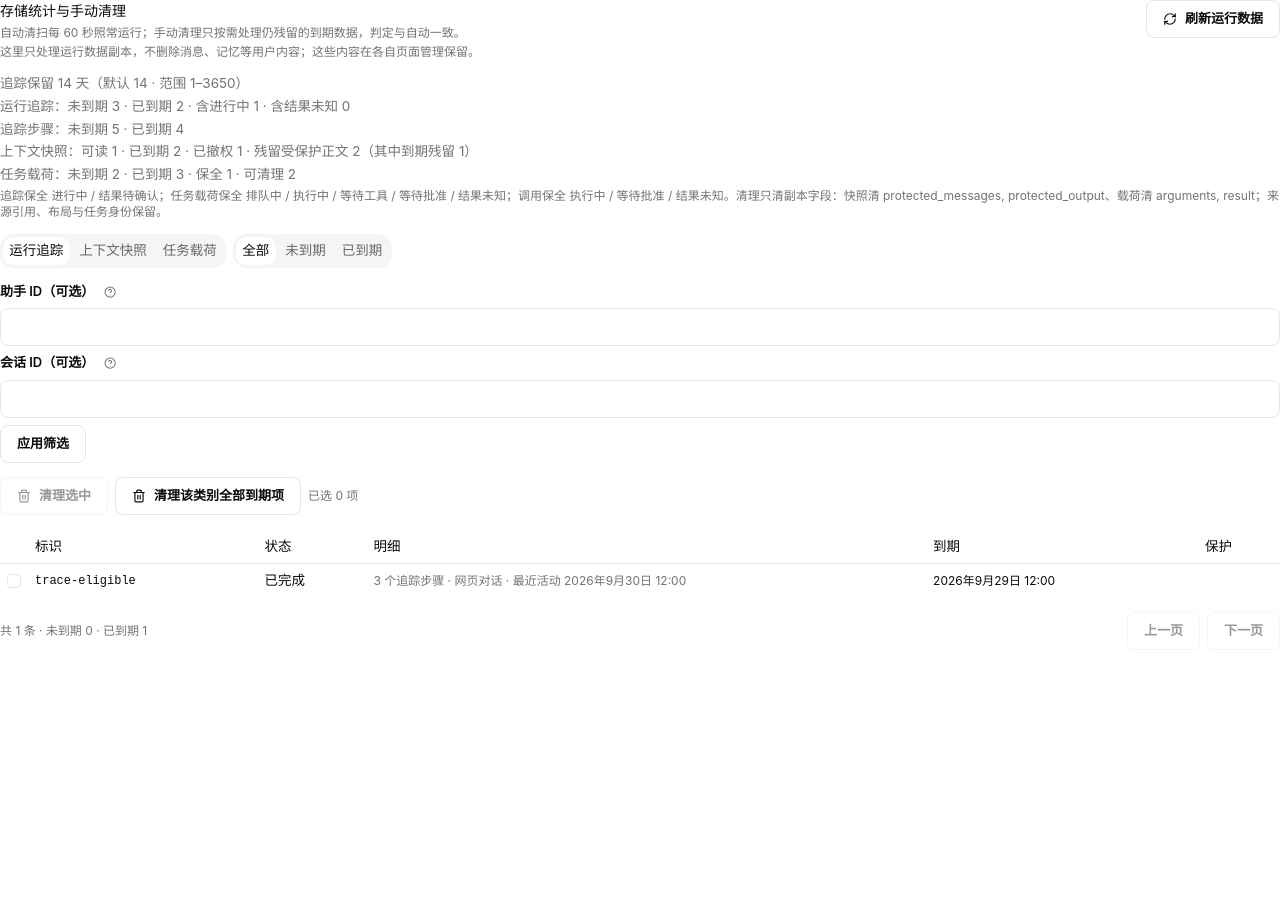
it: delayed cleanup confirmation opener › cleanSelected returns to the exact action button after delayed preview and cancel
Click the checkbox named "选择 trace-eligible" at (14, 581), box [7, 574, 21, 588]
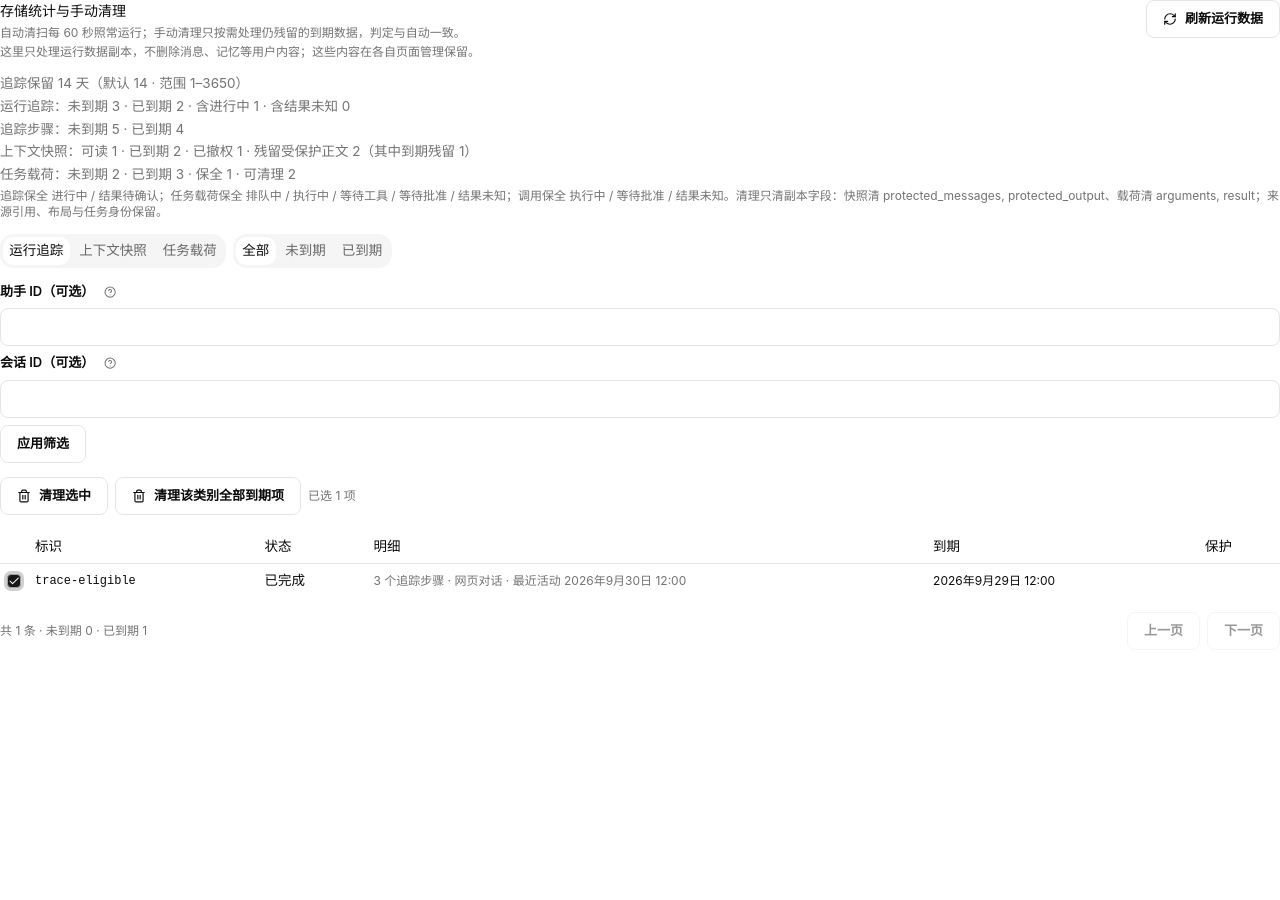
Click the button "清理选中" at (54, 496), box [0, 477, 108, 515]
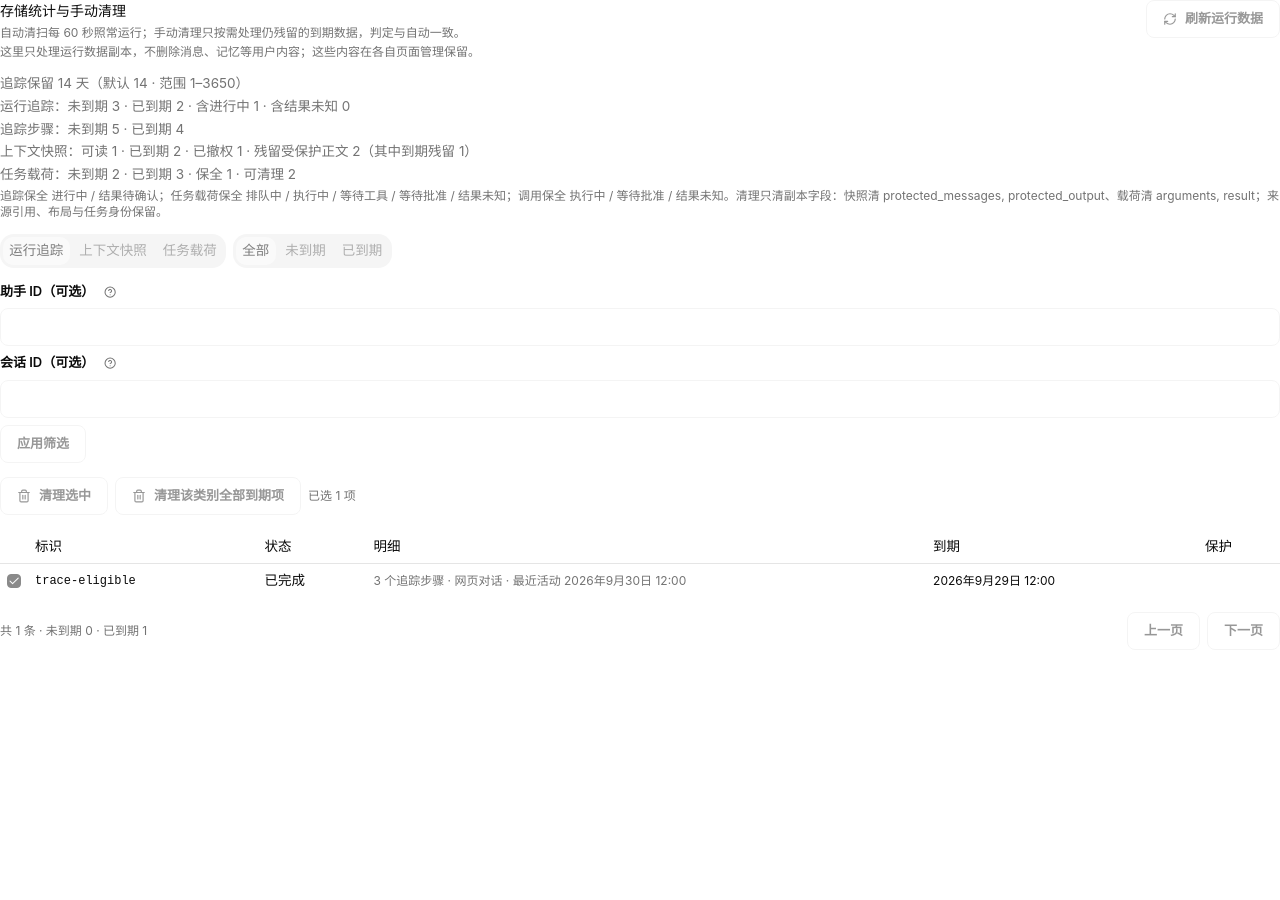
Now the button "清理选中" is disabled
Click the button "清理选中" at (54, 496), box [0, 477, 108, 515]
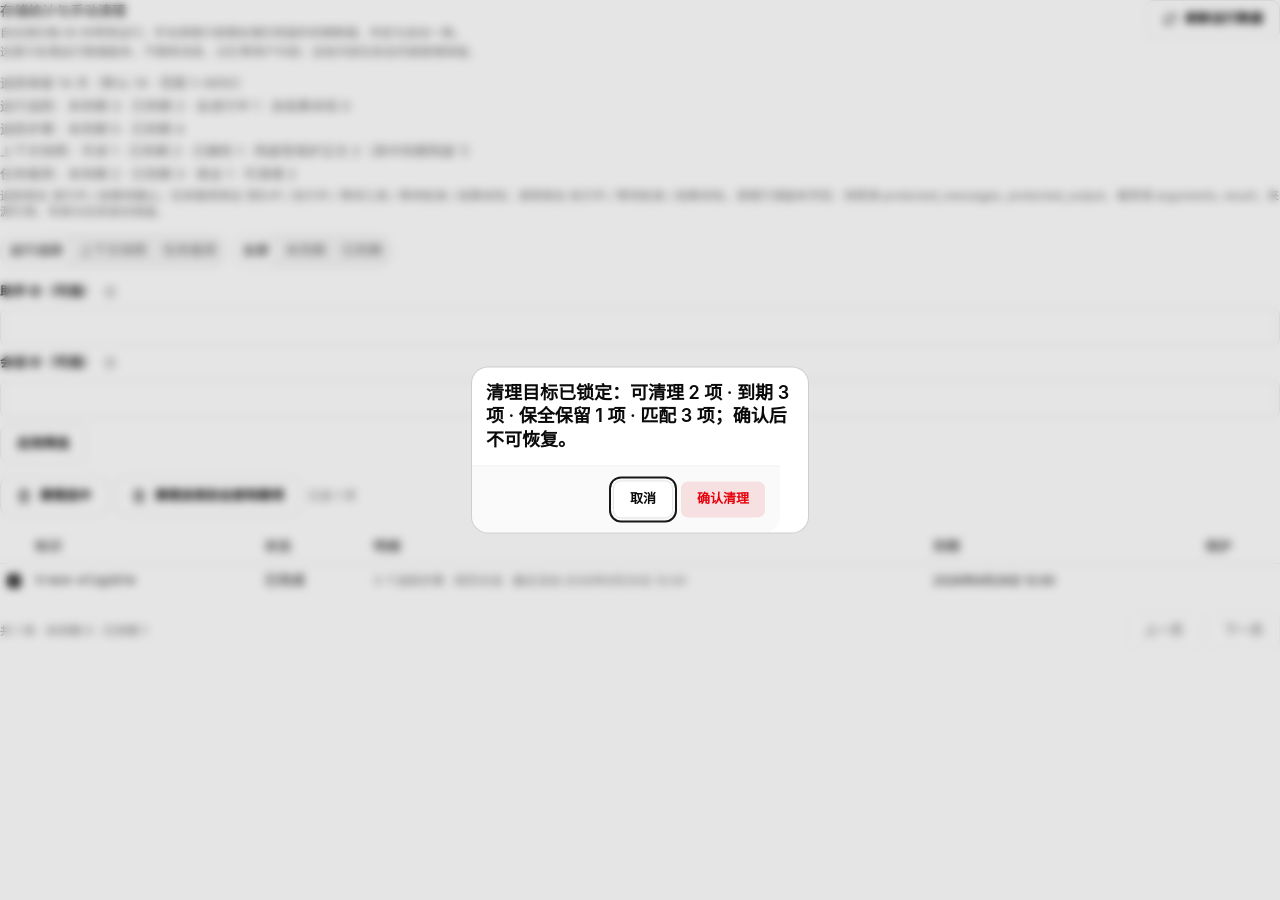
Click the button "取消" at (643, 500), box [613, 481, 673, 519]
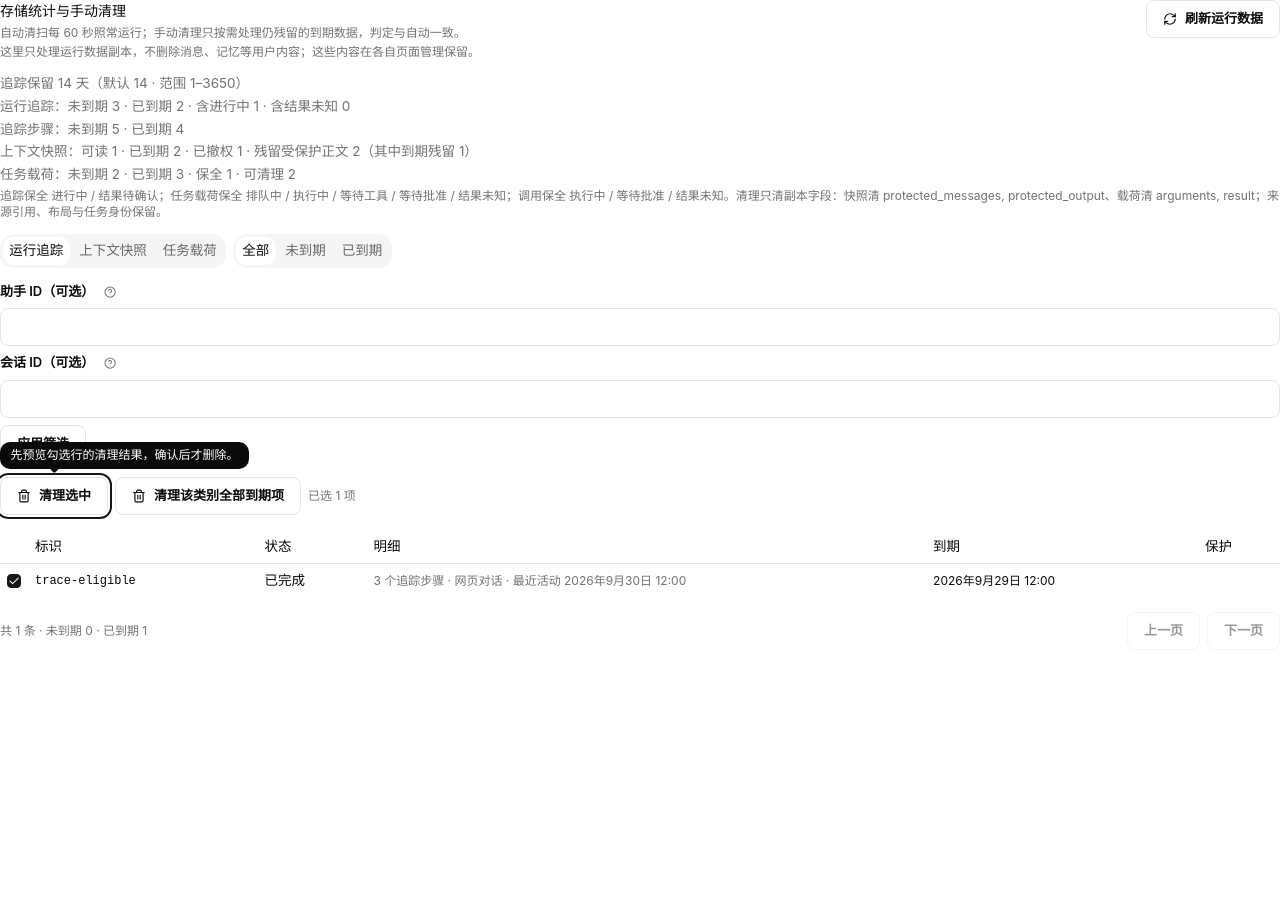
Now the button "清理选中" is enabled, box [0, 477, 108, 515]
Now the dialog is gone
